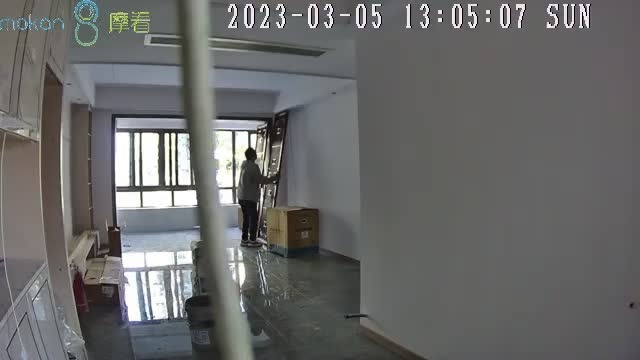people: (237, 147, 278, 247)
window: (116, 120, 266, 210)
